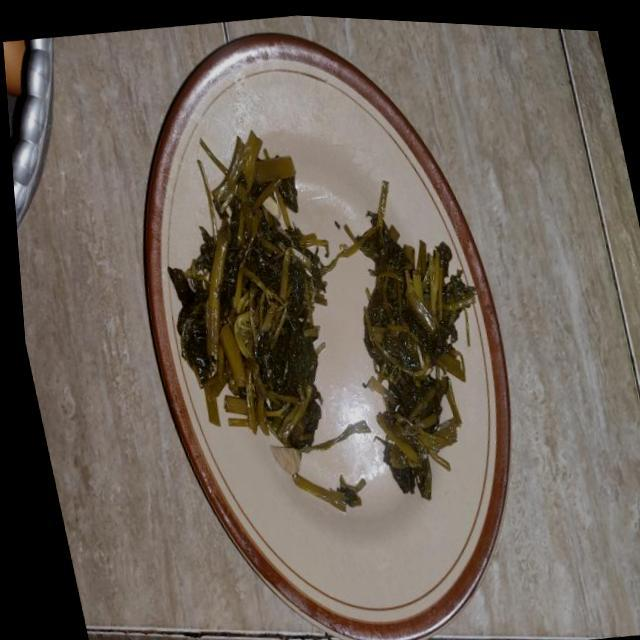tumis_kangkung: (195, 136, 329, 450), (362, 193, 476, 500)
